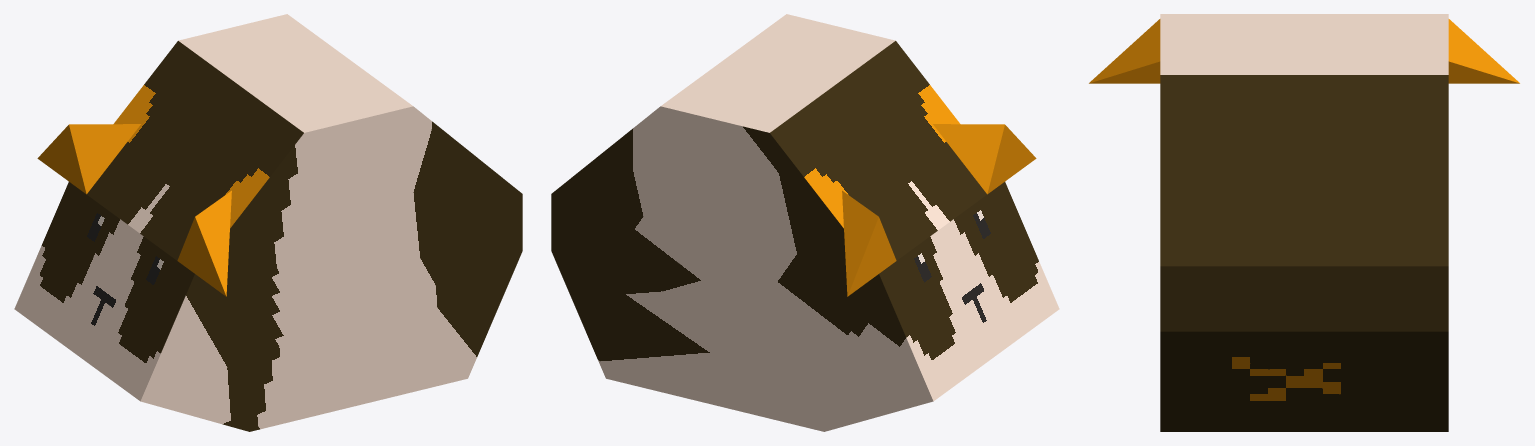
File: ginnie7e.gltf
3 renders of one model, left to right at view 1: azimuth 30°, elevation 25°; view 2: azimuth 150°, elevation 25°; view 3: azimuth 270°, elevation 25°, orthographic. The views are drawn at different scales.
Size of the model in its own units: 1.75 by 1.25 by 1.5.
1 material, 1 textured.
